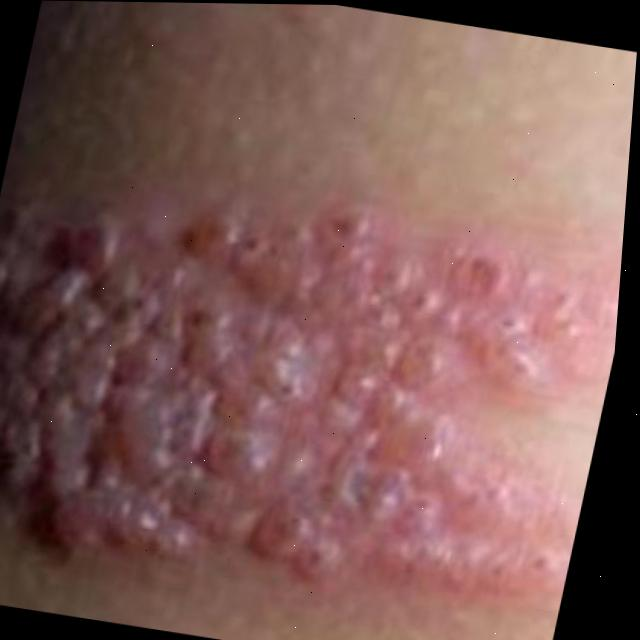Shingles: (0, 182, 627, 623)
